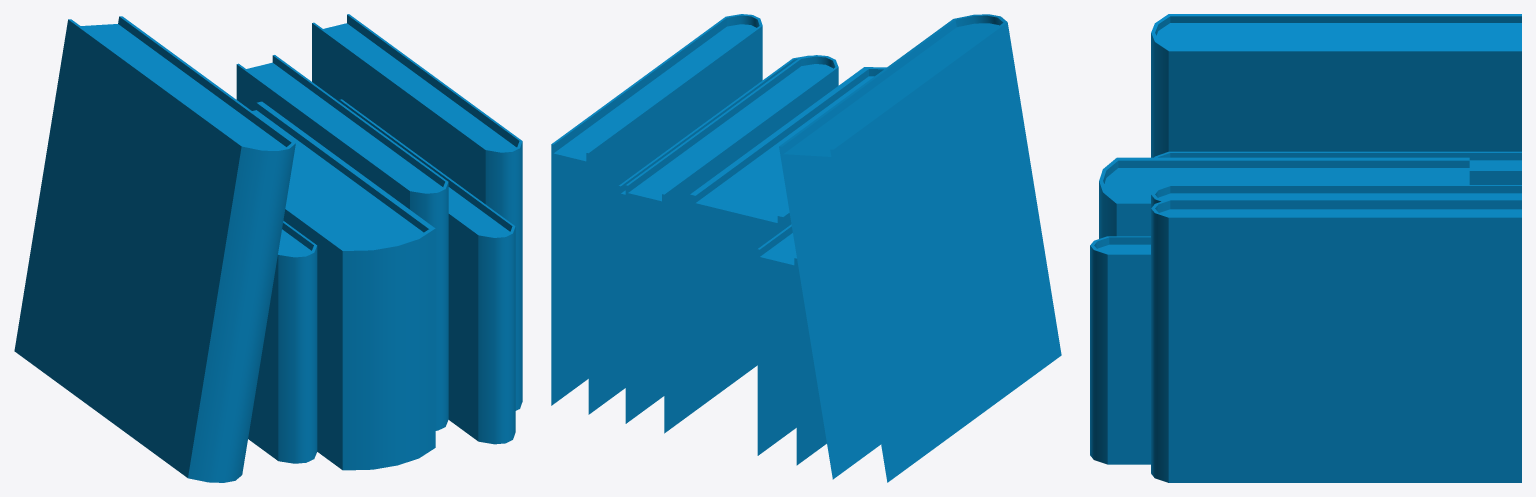
The model's file is HalloweenRoomA_BooksE.fbx.
The picture shows the model from 3 angles, left to right: view 1: azimuth 30°, elevation 25°; view 2: azimuth 150°, elevation 25°; view 3: azimuth 270°, elevation 25°; orthographic projection.
Visible parts, largest first — view 1: HalloweenRoomA_BooksE; view 2: HalloweenRoomA_BooksE; view 3: HalloweenRoomA_BooksE.
Part boxes in pixels (<box>): HalloweenRoomA_BooksE: <box>14,14,522,482</box>; HalloweenRoomA_BooksE: <box>551,14,1061,482</box>; HalloweenRoomA_BooksE: <box>1090,14,1521,482</box>.
Bounding box in the file's own units: 29.01 × 27.23 × 31.84.
